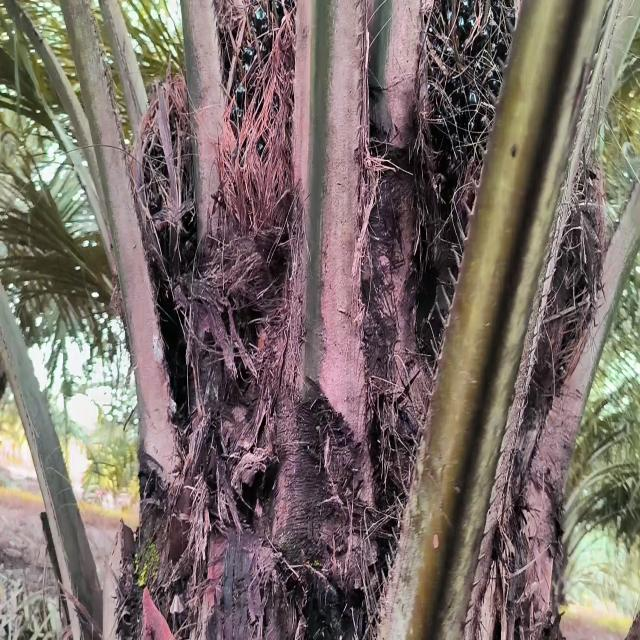palm-oil: (421, 0, 522, 259), (218, 0, 308, 260)
